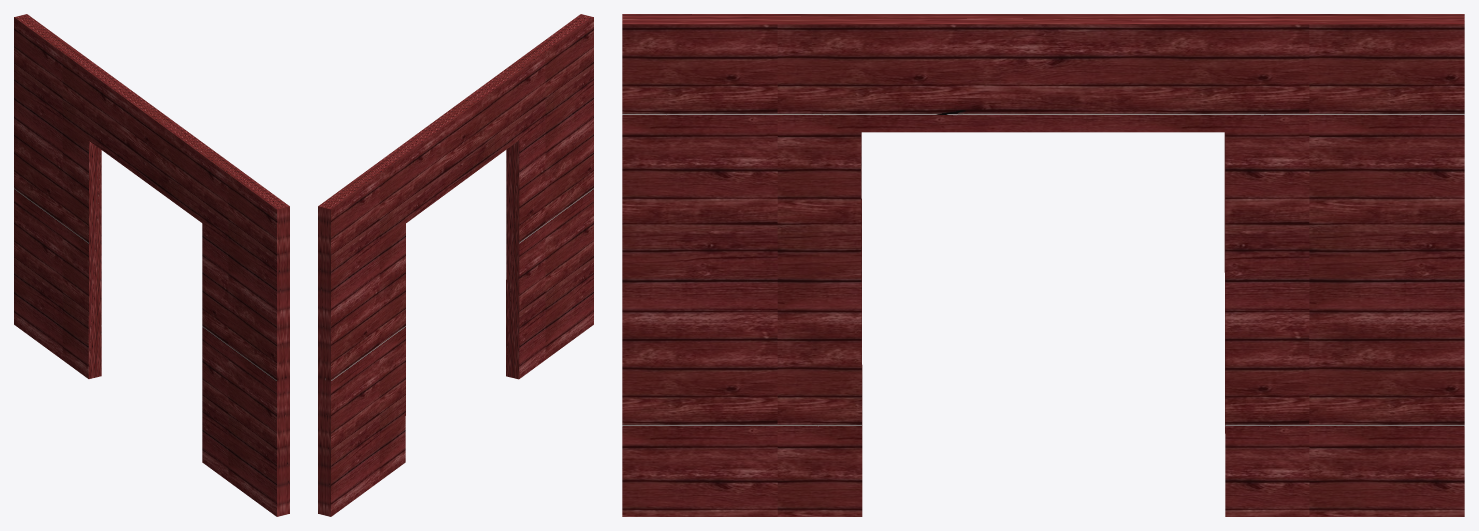
Rendered from BarnDoor.fbx.
3 views of the same model, side by side, from view 1: azimuth 30°, elevation 25°; view 2: azimuth 150°, elevation 25°; view 3: azimuth 270°, elevation 25° (orthographic). The views are drawn at different scales.
Parts seen in each view (by area): view 1: Cube; view 2: Cube; view 3: Cube.
Part boxes in pixels (x1,y1,x2,y2): Cube: (14,14,289,516); Cube: (318,14,593,516); Cube: (622,14,1464,516).
Bounding box in the file's own units: 20 × 451 × 699.
1 material, 1 textured.
